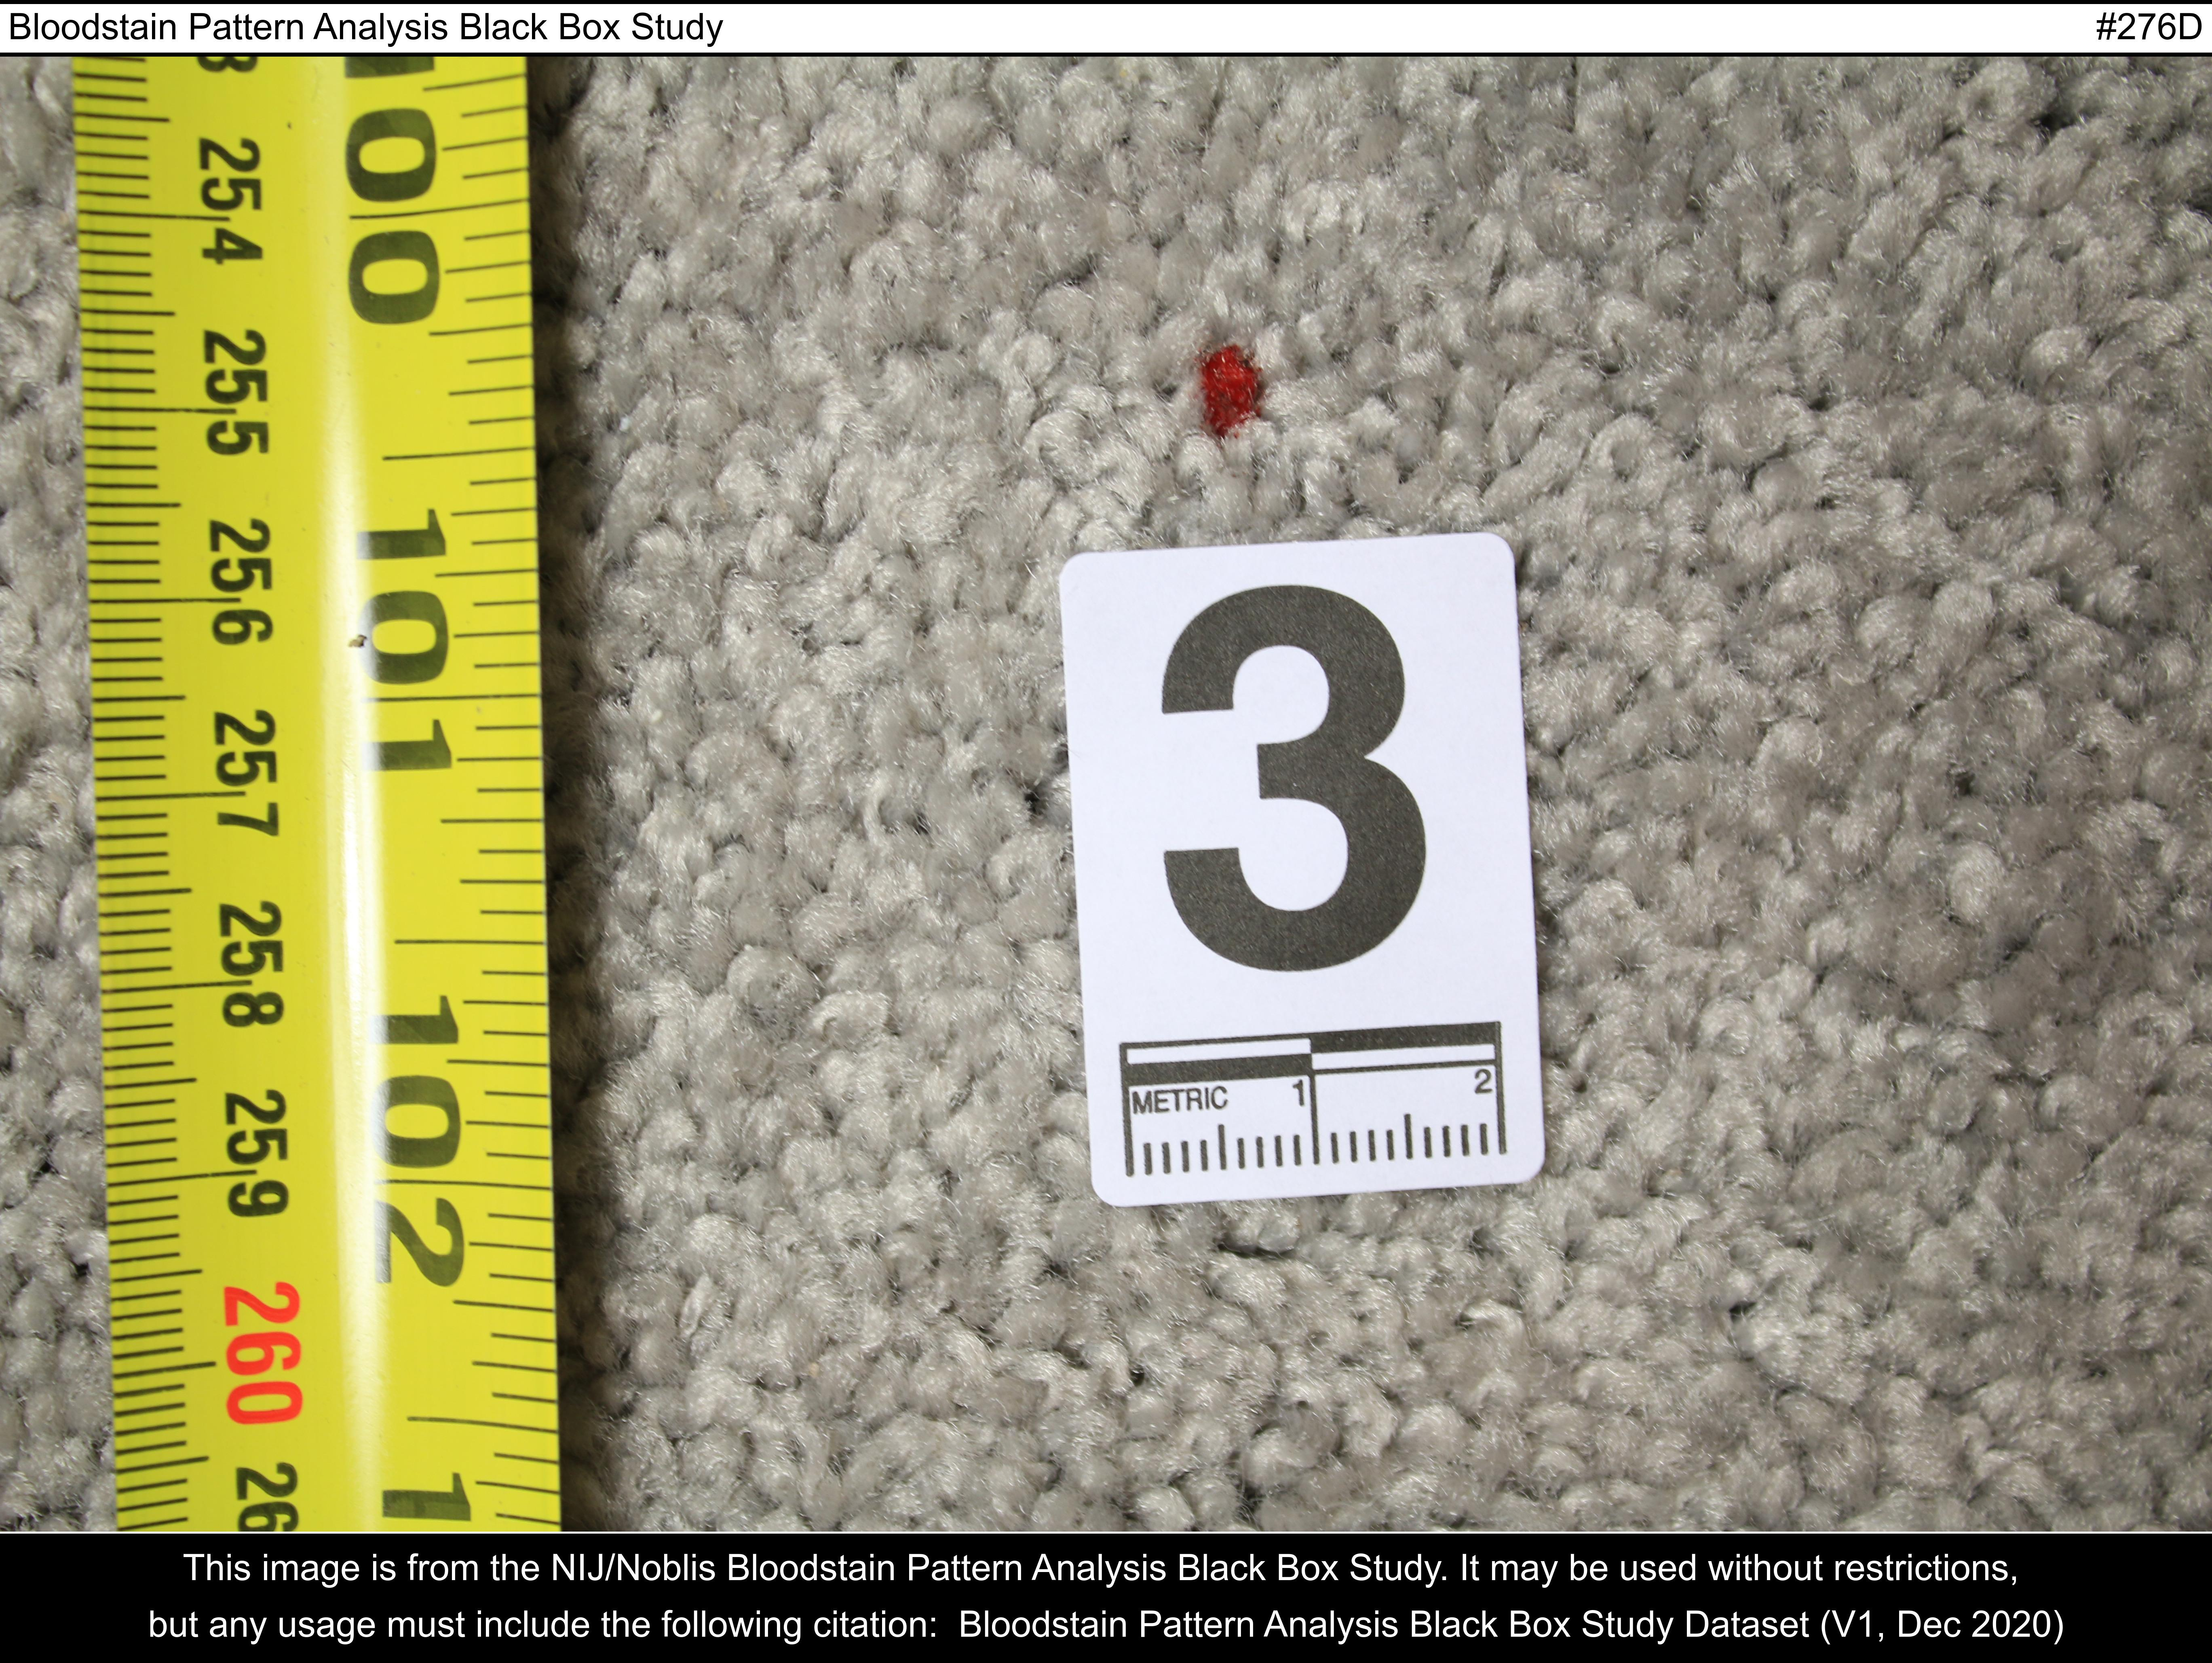Passive: (1096, 225, 1370, 491)
